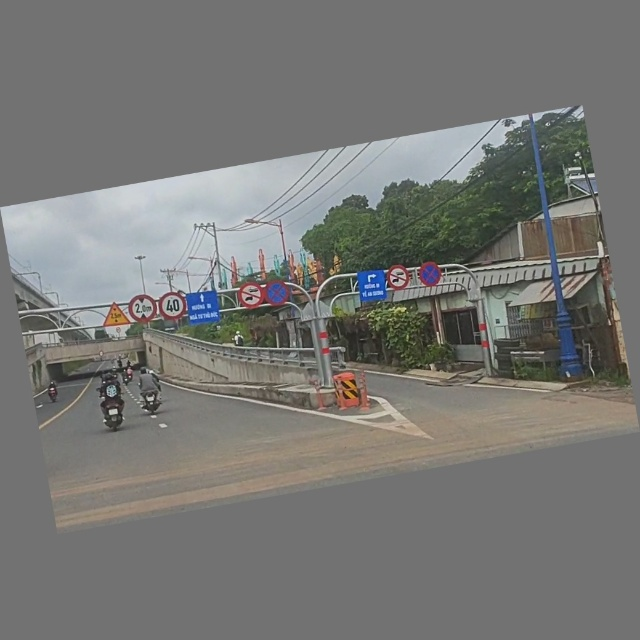P.107: (234, 281, 266, 312), (384, 262, 413, 293)
P.117*: (125, 293, 159, 326)
P.127*40: (157, 290, 188, 323)
P.130: (261, 277, 294, 309), (418, 260, 444, 289)
W.239b*: (98, 300, 130, 329)
